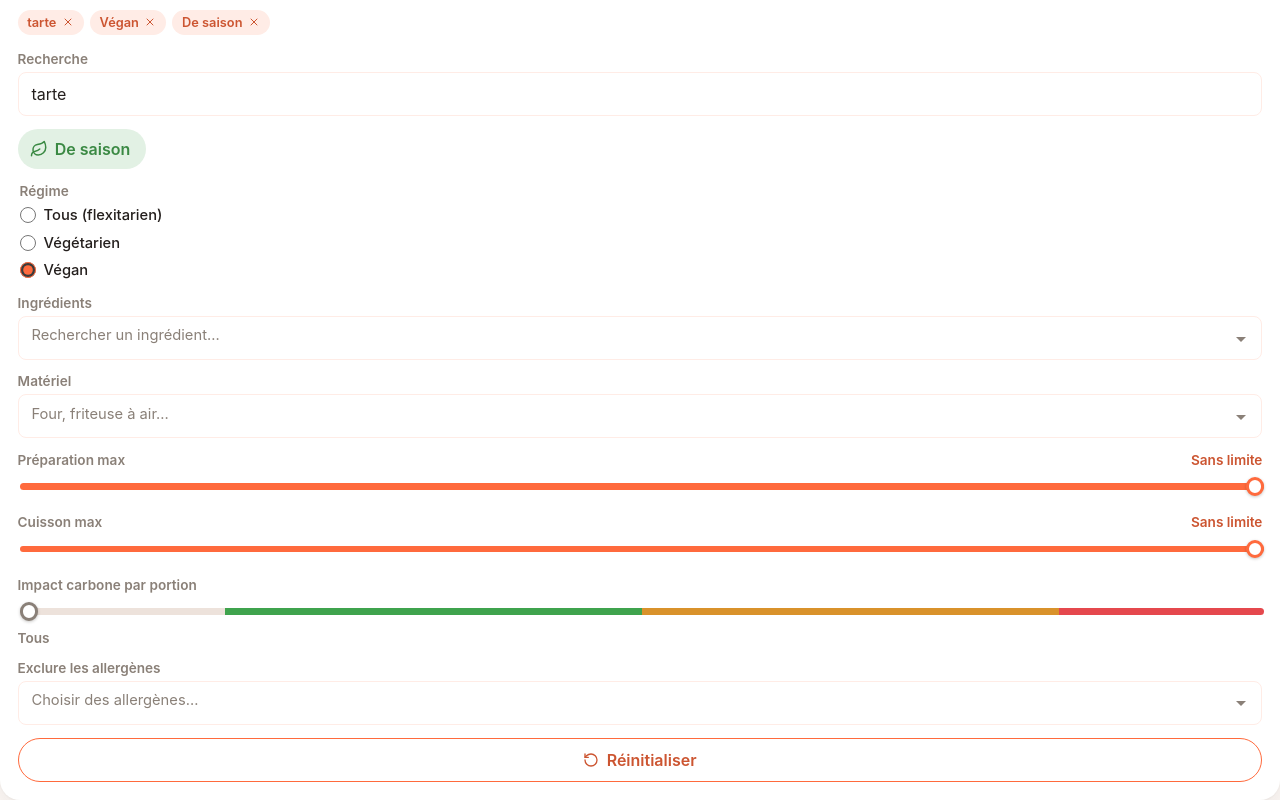
RecipeFilters › resets every filter
(page scrolled)
Click the button with class "reset".
click(640, 760)  # box left=18, top=738, right=1262, bottom=782
(page scrolled)
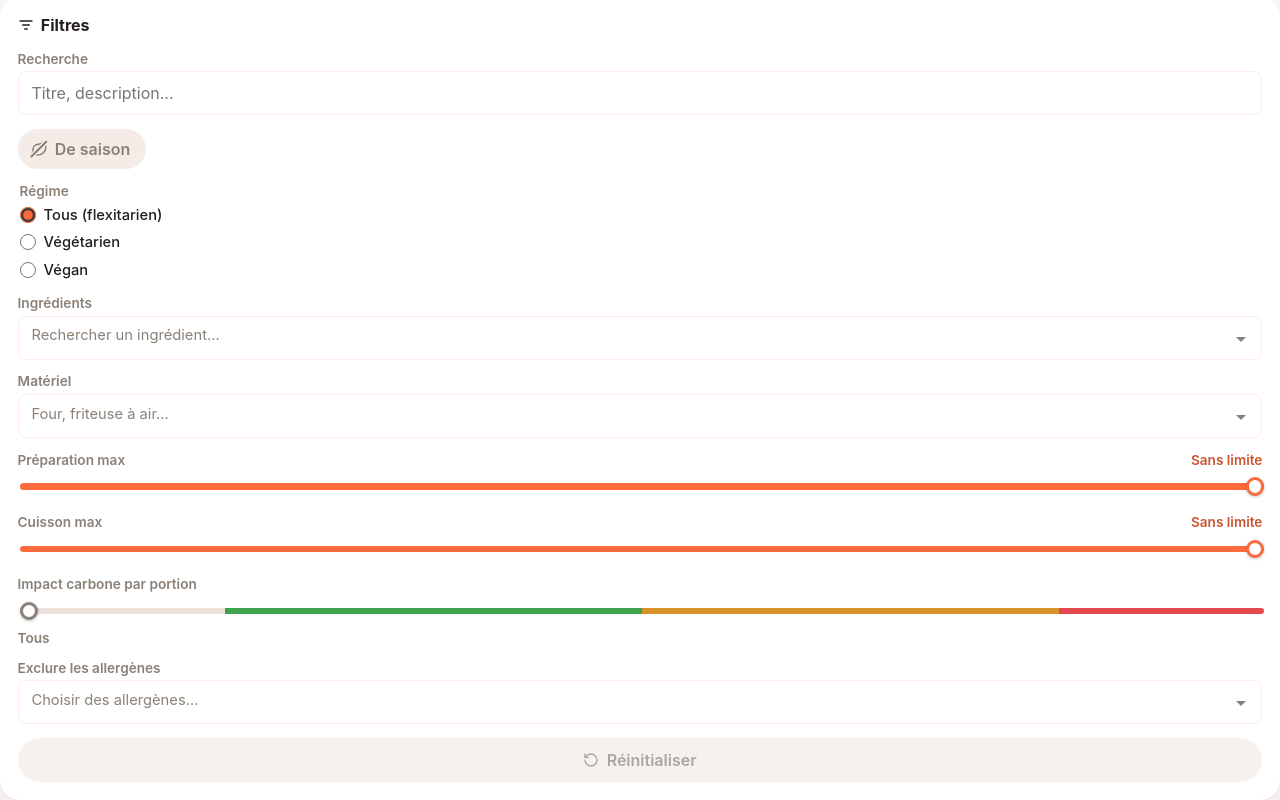
Expected: the button with class "reset" is disabled, left=18, top=738, right=1262, bottom=782
